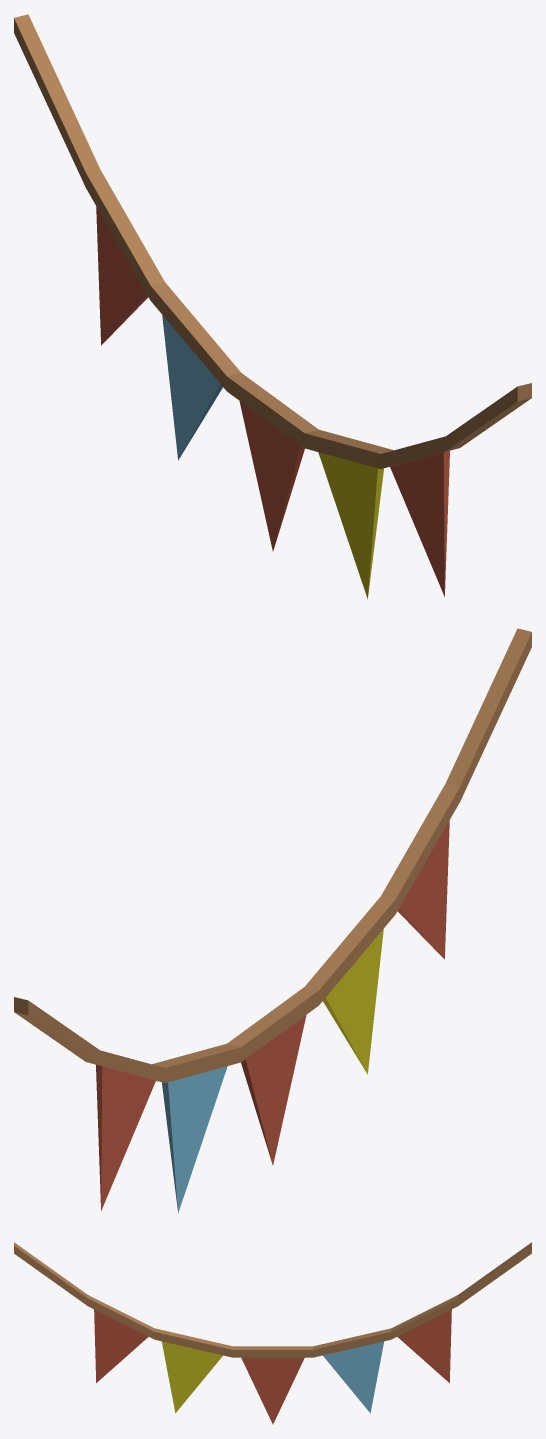
File: Pennant.fbx
3 views of the same model, one above another, from view 1: azimuth 30°, elevation 25°; view 2: azimuth 150°, elevation 25°; view 3: azimuth 270°, elevation 25° (orthographic). The views are drawn at different scales.
Parts seen in each view (by area): view 1: Pennant; view 2: Pennant; view 3: Pennant.
Part boxes in pixels (x1=…): Pennant: x1=14, y1=14, x2=531, y2=598; Pennant: x1=14, y1=628, x2=531, y2=1212; Pennant: x1=14, y1=1242, x2=531, y2=1424.
Size of the model in its own units: 8.1 by 185 by 480.
